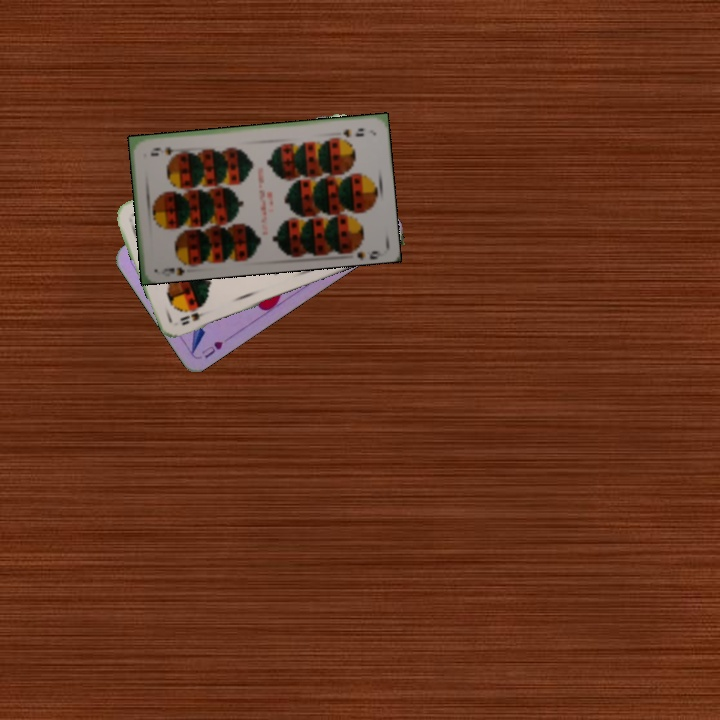HU: (197, 337, 226, 361)
S9: (157, 256, 196, 278), (339, 124, 367, 140)
SO: (176, 305, 213, 328)
